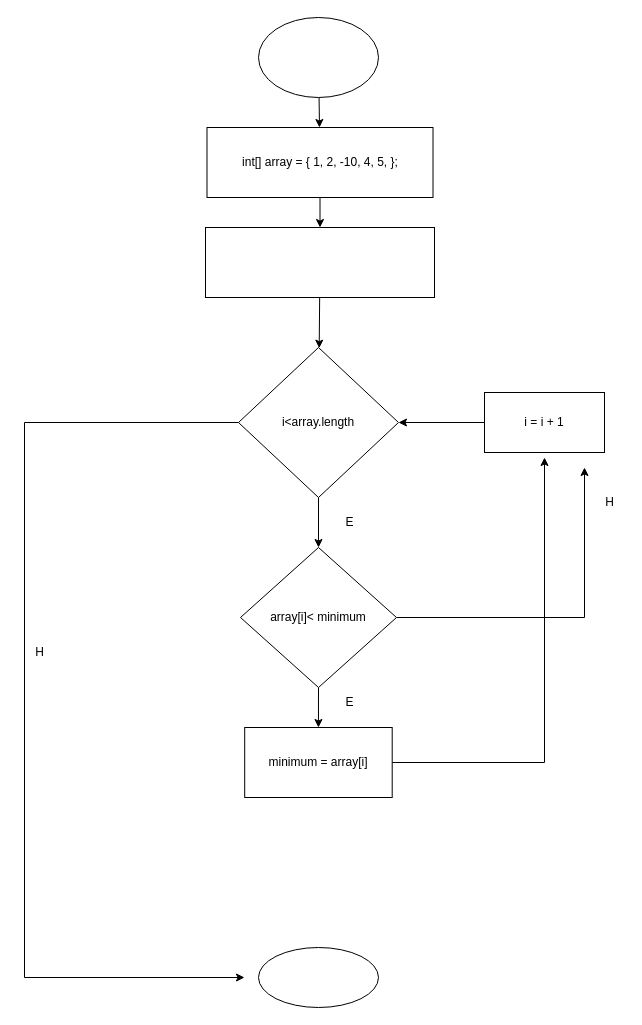
This 642x1025 diagram has some shape labels left out. The shapes that lost their labels are listed below. From the top down, each one's centre as x and y in pixels, then its label:
At (318,57): "BAŞLA".
At (319,262): "var minimum = array[0];".
At (318,977): "BİTİR".
